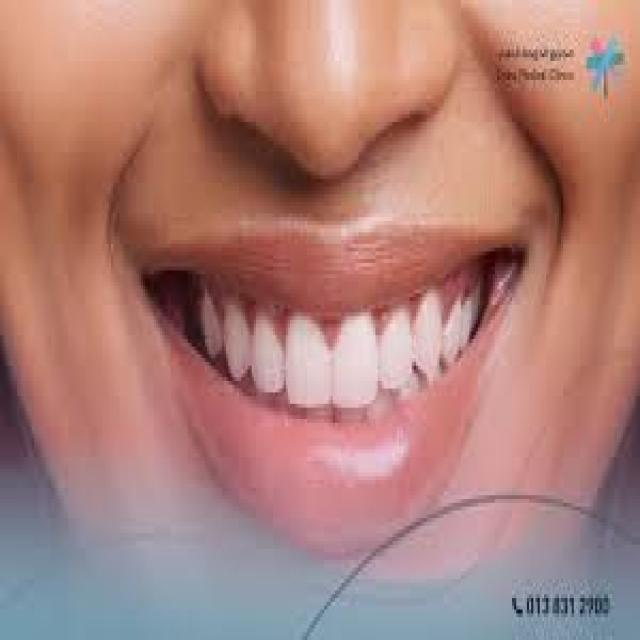tooth: (286, 312, 328, 404), (331, 316, 373, 404), (250, 312, 282, 388), (414, 297, 441, 373), (380, 312, 407, 385), (222, 301, 247, 377), (198, 290, 218, 358), (446, 293, 459, 358), (463, 293, 474, 339)
